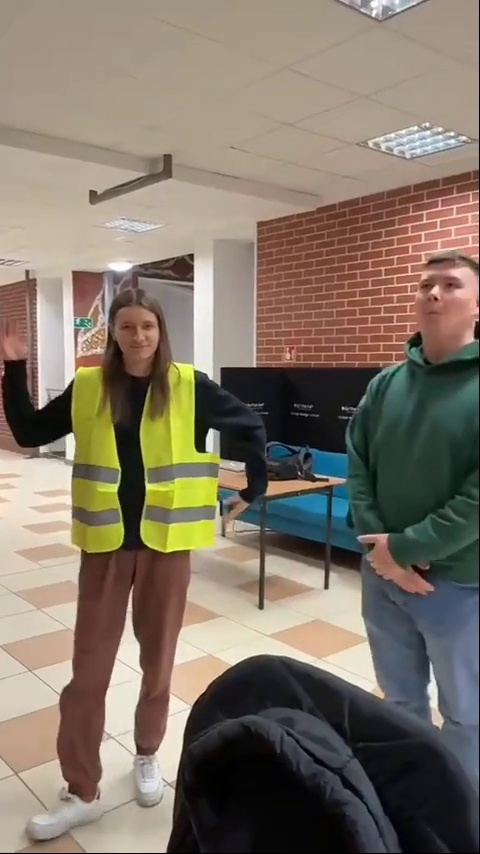no vest: (345, 253, 480, 751)
vest: (0, 286, 269, 834)
